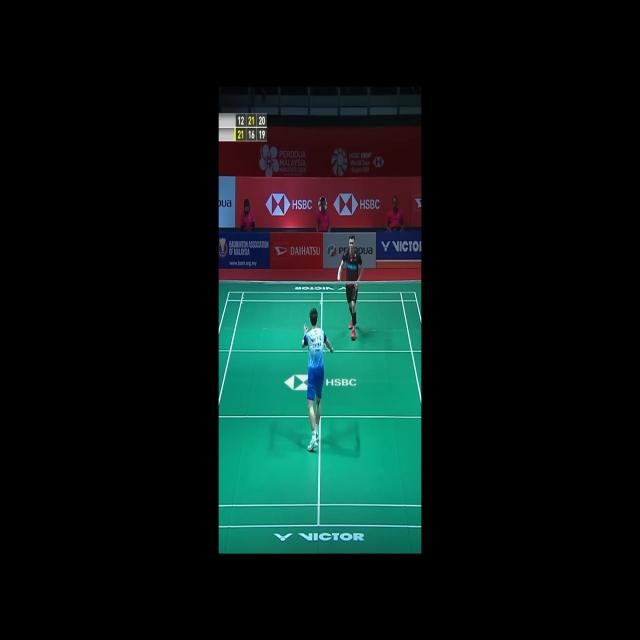shuttle-P15u: (321, 300, 324, 306)
